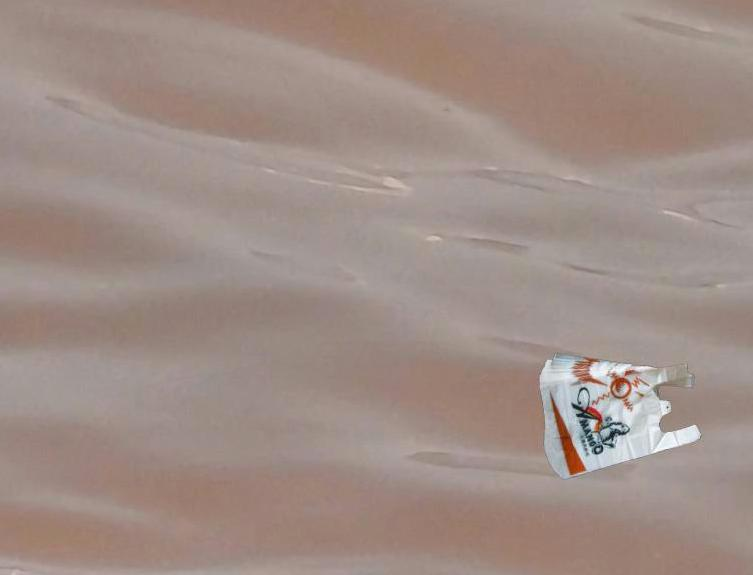Trash: (538, 351, 703, 478)
